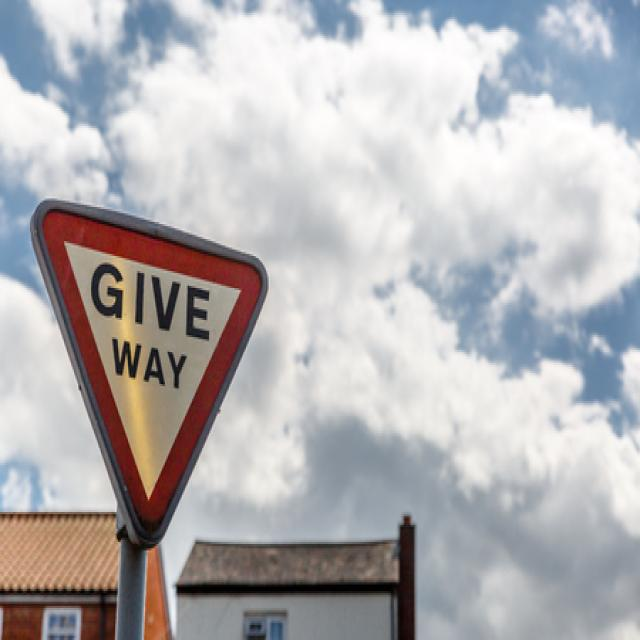GIVE_WAY: (30, 195, 269, 550)
